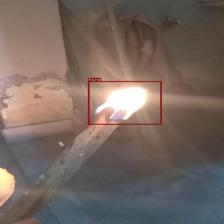fire: (88, 80, 161, 124)
